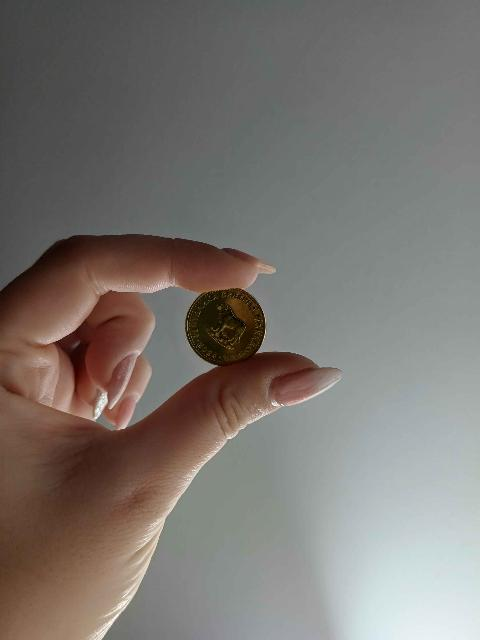coin: (186, 289, 266, 365)
